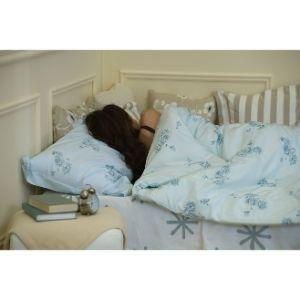sleep: (74, 92, 298, 193)
